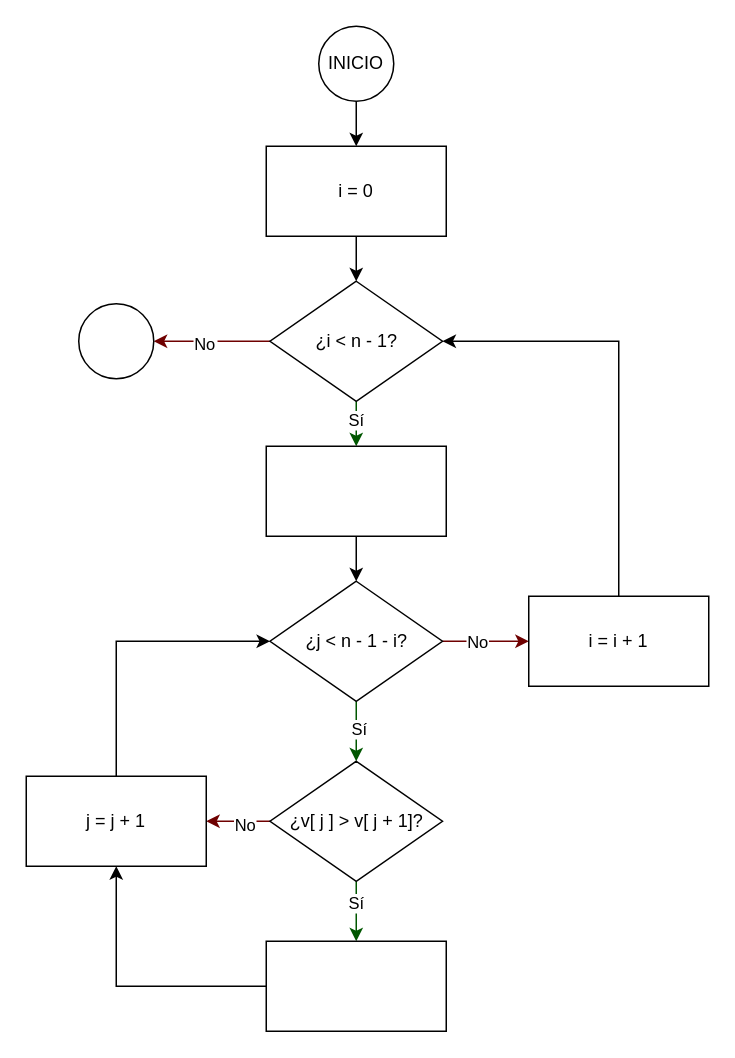
This 735x1058 diagram has some shape labels left out. Each missing label, with the centre of its shape:
"FIN" belongs at pixel 115 340.
"j = 0" belongs at pixel 355 490.
"Swap" belongs at pixel 355 985.
